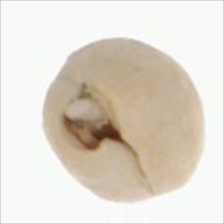L3: (61, 82, 130, 151)
L4: (41, 37, 206, 203)
